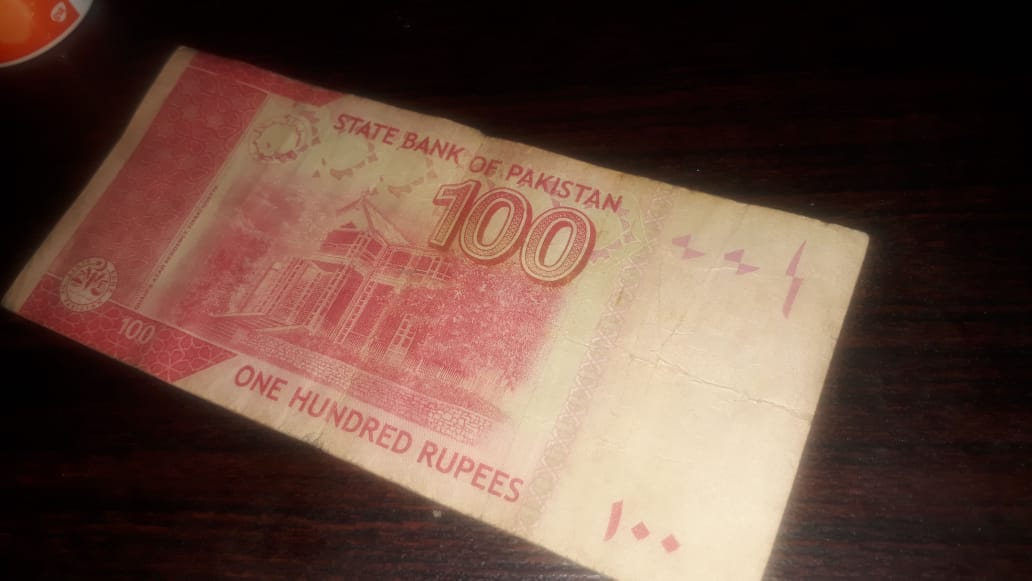100 rupee: (2, 39, 865, 580)
